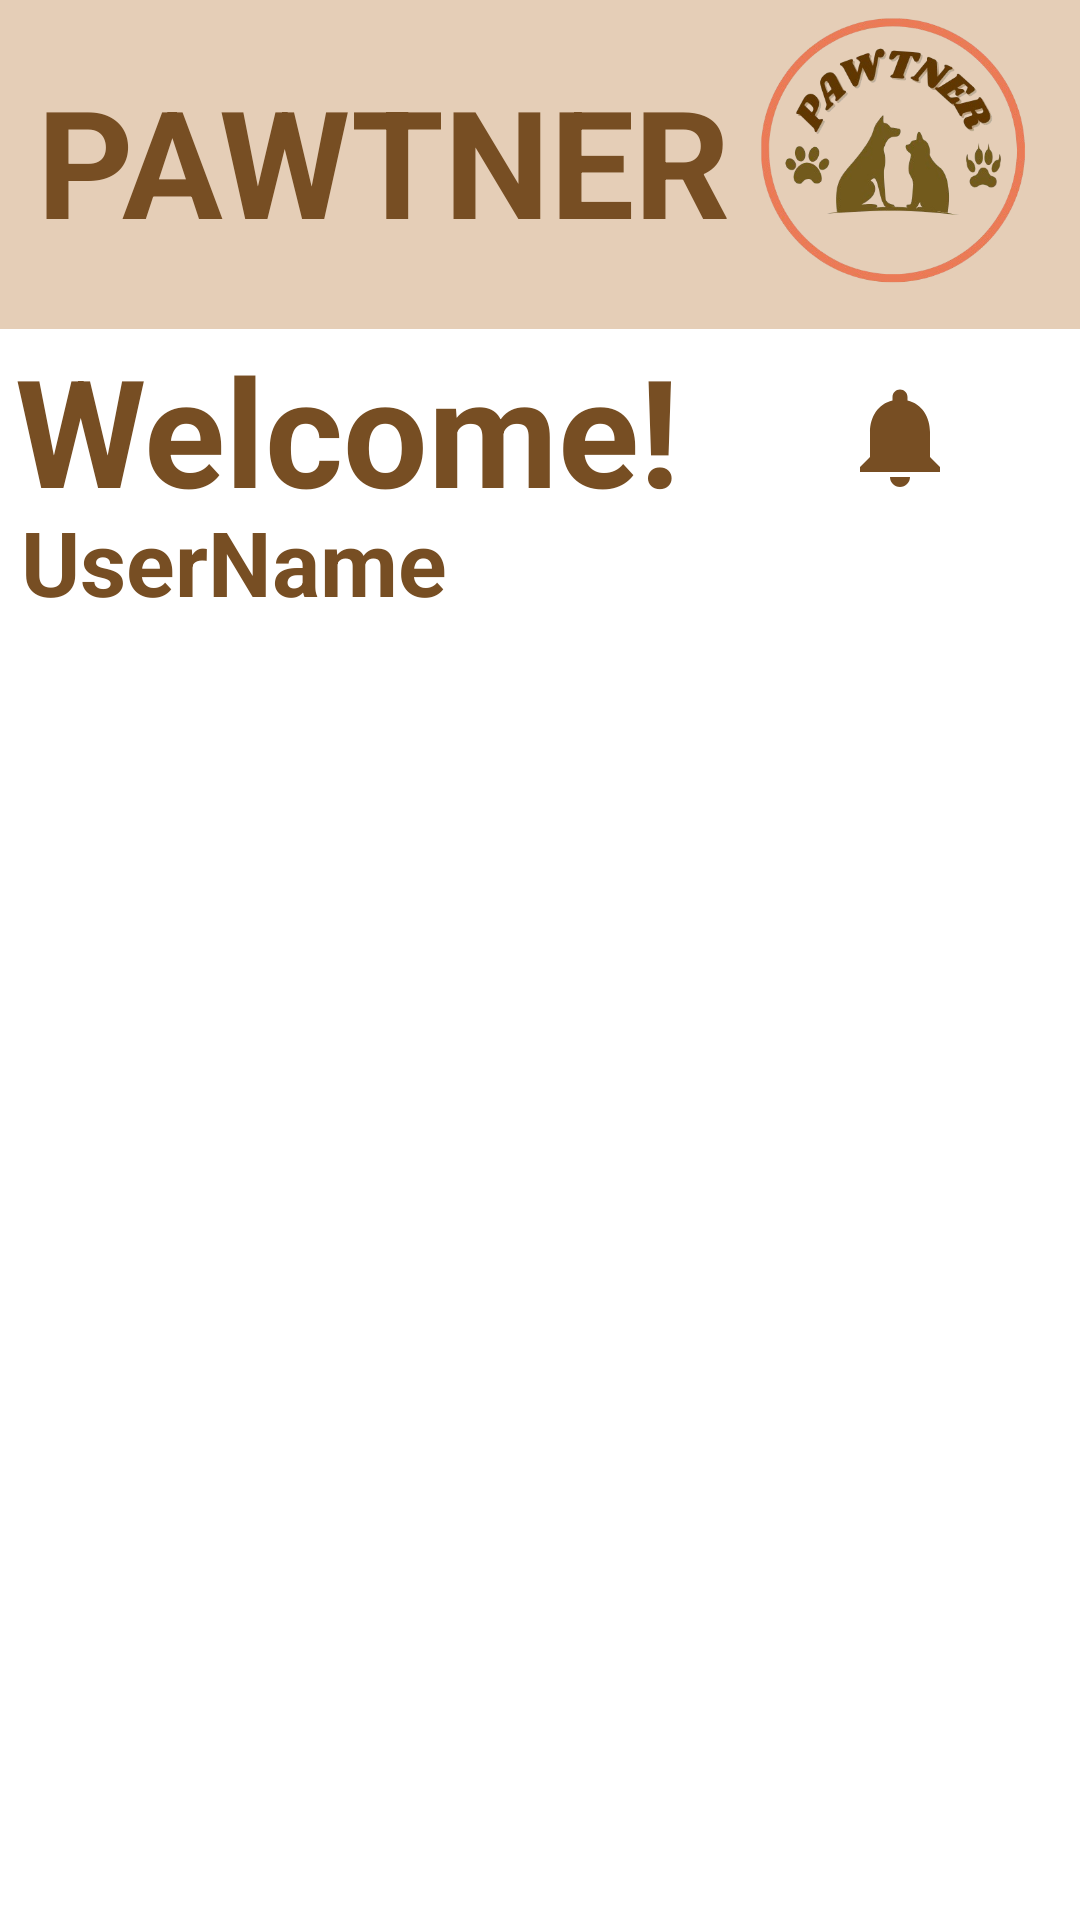

Named icons in this screenshot (1080w x 1920h) and their bounding boxes, {"x1": x1, "y1": y1, "x2": x2, "y2": y2}:
Notification Icon: {"x1": 860, "y1": 389, "x2": 940, "y2": 487}
